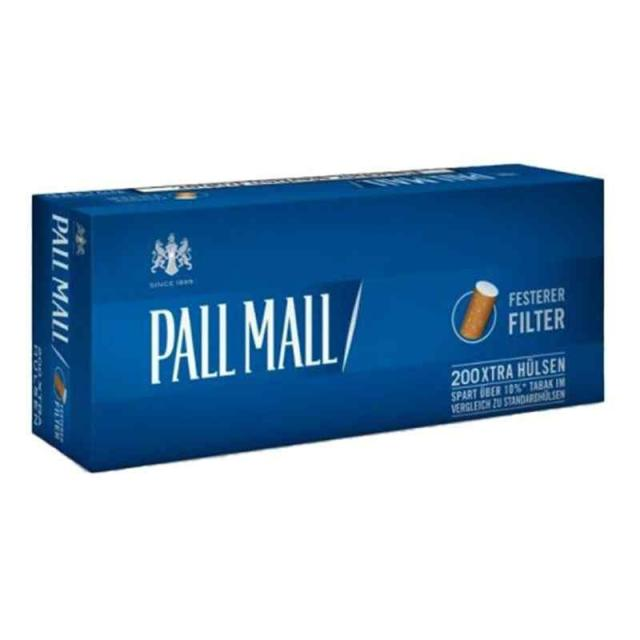pallmall: (32, 163, 604, 479)
